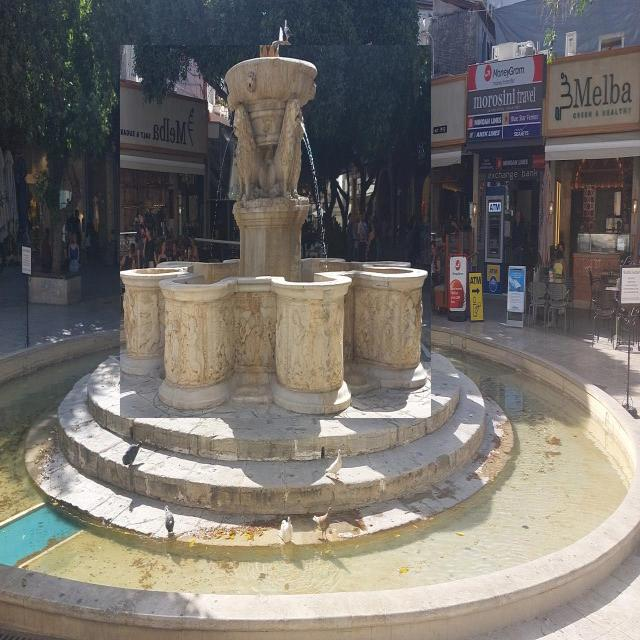Liontaria: (121, 46, 432, 419)
